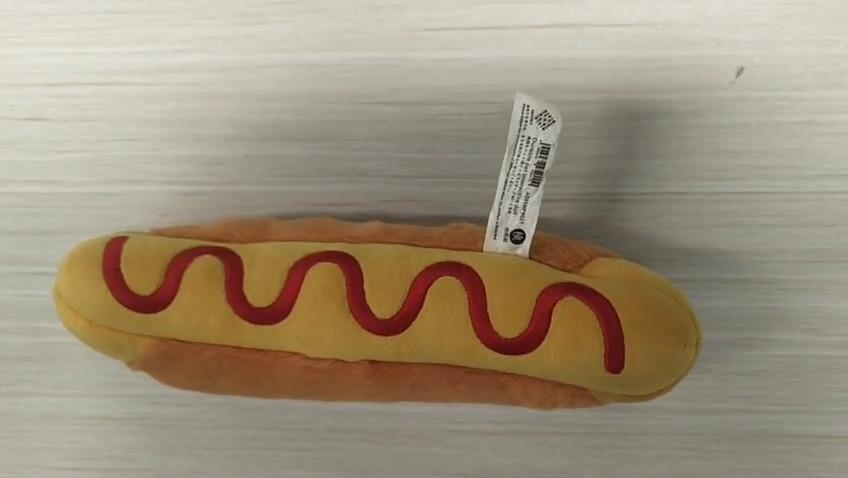hotdog: (52, 214, 702, 410)
